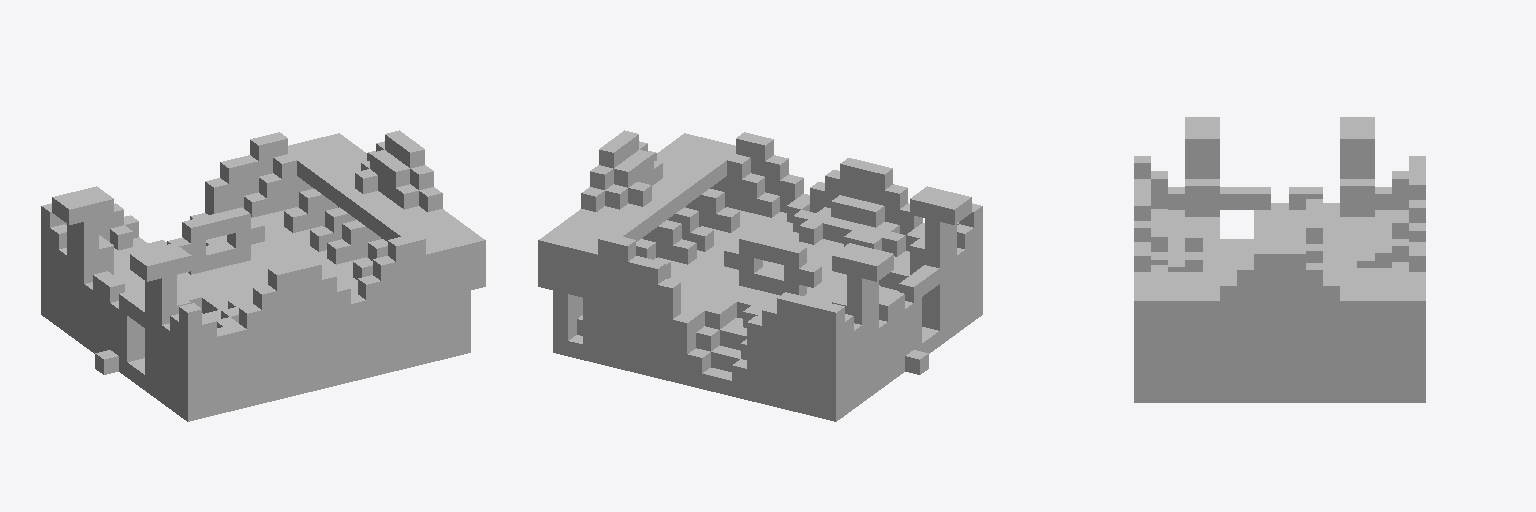
File: barracks.obj
3 renders of one model, left to right at view 1: azimuth 30°, elevation 25°; view 2: azimuth 150°, elevation 25°; view 3: azimuth 270°, elevation 25°, orthographic.
Visible parts, largest first — view 1: barracks; view 2: barracks; view 3: barracks.
Part boxes in pixels (bbox=[...]): barracks: bbox=[41, 130, 485, 421]; barracks: bbox=[538, 130, 982, 421]; barracks: bbox=[1134, 117, 1425, 402].
Bounding box in the file's own units: 21 × 10 × 17.